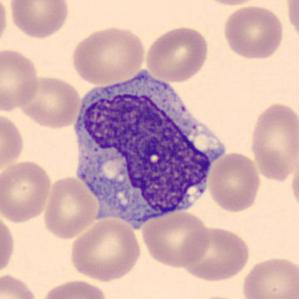Monocyte: (66, 65, 226, 231)
RBC: (68, 216, 143, 282), (70, 24, 147, 85), (139, 208, 212, 269), (179, 224, 252, 282), (248, 100, 298, 182), (41, 174, 99, 240), (144, 25, 210, 83), (221, 3, 285, 61), (16, 74, 82, 130), (0, 158, 53, 224), (207, 150, 262, 213), (0, 46, 41, 111), (239, 254, 298, 299), (6, 0, 70, 40), (0, 109, 27, 175), (38, 277, 110, 299), (0, 272, 40, 299), (0, 211, 16, 278), (288, 154, 299, 215), (284, 0, 299, 43), (195, 0, 268, 7), (0, 0, 10, 50)
